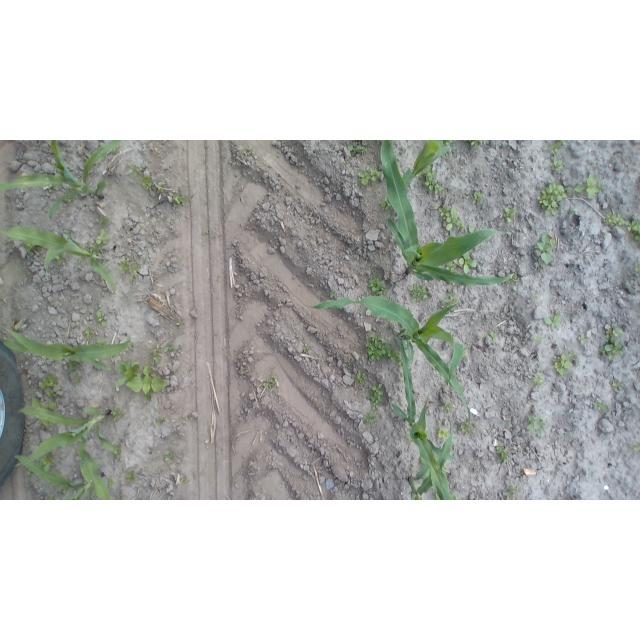Maize: (311, 297, 473, 425), (380, 141, 512, 288), (388, 336, 453, 500), (14, 405, 116, 500), (0, 140, 124, 218), (2, 226, 116, 296), (1, 324, 132, 371), (15, 456, 105, 501), (407, 426, 458, 500), (400, 140, 451, 190)
Weeds: (115, 360, 167, 400), (537, 181, 567, 216), (417, 166, 444, 195), (574, 174, 606, 198), (438, 205, 467, 231), (365, 332, 391, 360), (535, 233, 558, 264), (551, 350, 575, 377), (599, 340, 624, 360), (366, 383, 384, 410), (458, 251, 477, 275), (358, 167, 382, 185), (409, 284, 430, 303), (37, 452, 56, 473), (366, 278, 388, 296), (527, 415, 546, 435), (441, 293, 459, 313), (547, 141, 566, 158), (503, 484, 521, 501), (605, 325, 624, 341), (32, 398, 57, 410), (545, 312, 562, 328), (605, 213, 624, 227), (497, 442, 510, 462), (40, 375, 58, 389), (263, 375, 279, 390), (348, 144, 368, 156), (379, 197, 394, 212), (96, 229, 110, 245), (24, 242, 42, 254), (139, 177, 153, 192), (391, 350, 404, 366), (111, 407, 125, 421), (625, 220, 640, 233), (504, 207, 516, 223), (503, 273, 517, 286), (531, 373, 545, 386), (549, 160, 564, 172), (364, 412, 379, 424), (355, 370, 367, 385), (153, 344, 162, 363), (96, 311, 106, 328), (69, 360, 82, 373), (436, 428, 450, 440), (88, 243, 104, 253), (461, 422, 473, 435), (117, 260, 129, 273), (54, 253, 64, 268), (472, 192, 484, 204), (173, 195, 186, 206), (46, 389, 60, 399), (446, 260, 457, 272), (128, 263, 140, 274), (85, 327, 95, 340), (164, 342, 177, 352), (125, 470, 135, 482), (64, 195, 79, 203), (593, 402, 607, 410), (240, 147, 254, 155), (41, 419, 52, 429), (132, 167, 142, 177), (114, 445, 121, 458), (95, 339, 108, 346), (73, 375, 83, 384), (442, 403, 453, 411), (631, 233, 640, 242), (630, 444, 640, 452), (76, 254, 84, 264), (157, 183, 165, 193), (59, 486, 69, 494), (491, 331, 498, 342), (471, 141, 482, 148), (108, 477, 115, 488), (100, 216, 109, 224), (65, 187, 77, 193), (111, 146, 120, 154), (611, 382, 621, 389), (579, 335, 586, 345), (163, 454, 173, 461), (201, 227, 209, 235), (468, 225, 475, 234), (535, 335, 542, 344), (129, 165, 136, 174), (157, 418, 164, 427), (180, 477, 190, 483), (49, 185, 56, 193), (482, 318, 489, 325), (531, 293, 537, 301), (303, 346, 309, 354), (26, 468, 32, 476), (331, 289, 336, 298), (444, 141, 453, 146), (635, 262, 640, 271), (567, 187, 573, 194), (569, 208, 575, 215), (130, 275, 137, 281), (408, 436, 413, 444), (46, 496, 55, 500), (463, 348, 467, 357), (175, 321, 181, 326), (580, 386, 587, 390), (442, 154, 447, 159), (339, 161, 344, 166), (142, 257, 147, 262), (416, 411, 420, 417), (386, 326, 391, 330), (189, 416, 194, 420), (503, 143, 507, 148), (190, 195, 193, 201), (363, 140, 370, 142), (474, 173, 478, 176), (116, 498, 121, 500), (464, 141, 472, 142)
